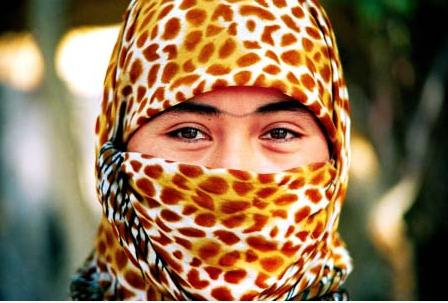OK: (129, 80, 333, 284)
